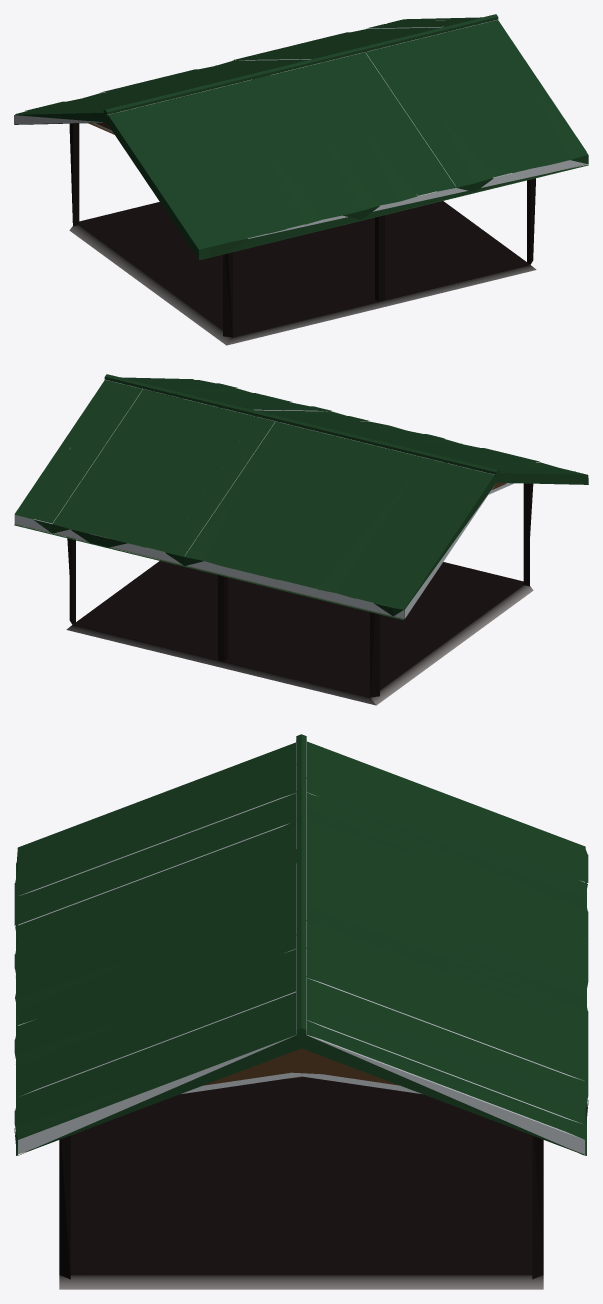
Rendered from rest-shelter.zfix-v3.lod1.glb.
3 renders of one model, top to bottom at view 1: azimuth 30°, elevation 25°; view 2: azimuth 150°, elevation 25°; view 3: azimuth 270°, elevation 25°, orthographic. The views are drawn at different scales.
Parts seen in each view (by area): view 1: Material2; view 2: Material2; view 3: Material2.
Part boxes in pixels (<box>): Material2: <box>14,14,588,345</box>; Material2: <box>14,374,588,705</box>; Material2: <box>14,734,588,1289</box>.
Size of the model in its own units: 10.35 by 4.77 by 8.55.
